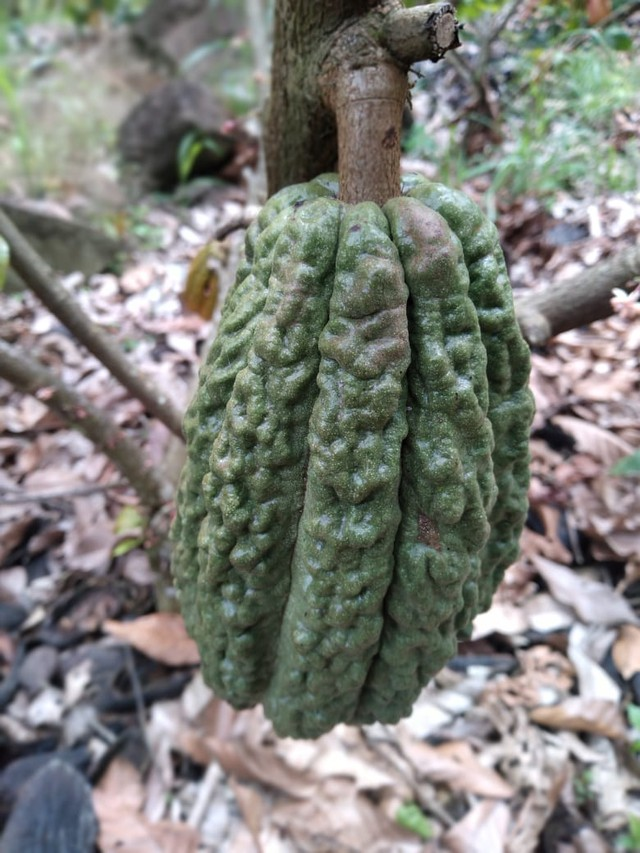Health: (144, 109, 554, 759)
